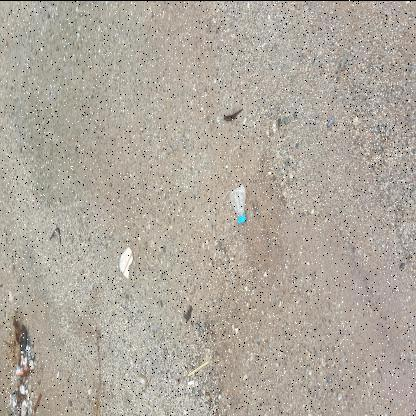plastic: (229, 185, 251, 227)
